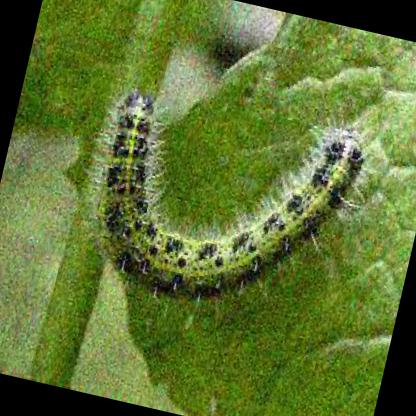pieris: (92, 86, 369, 304)
